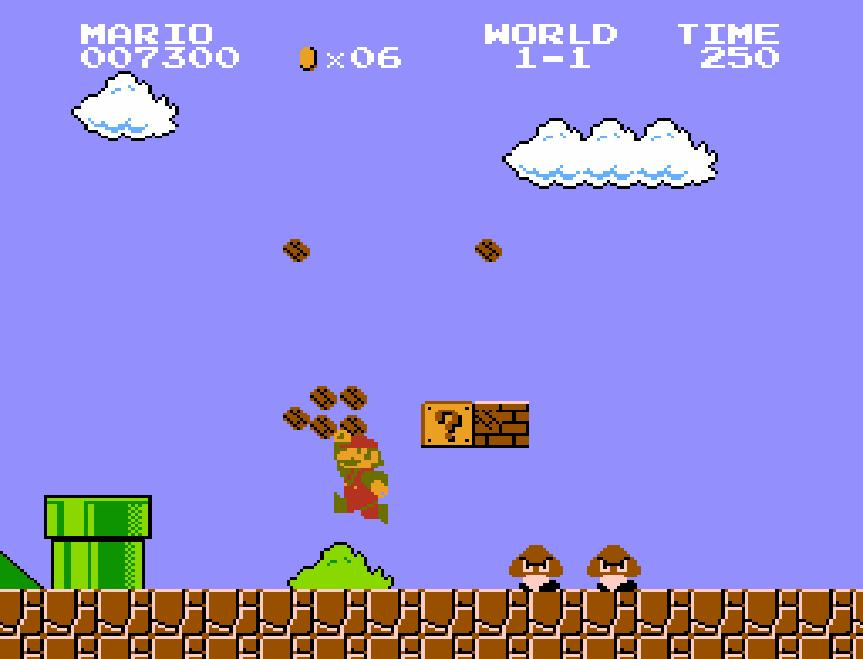big_mario: (332, 428, 390, 526)
